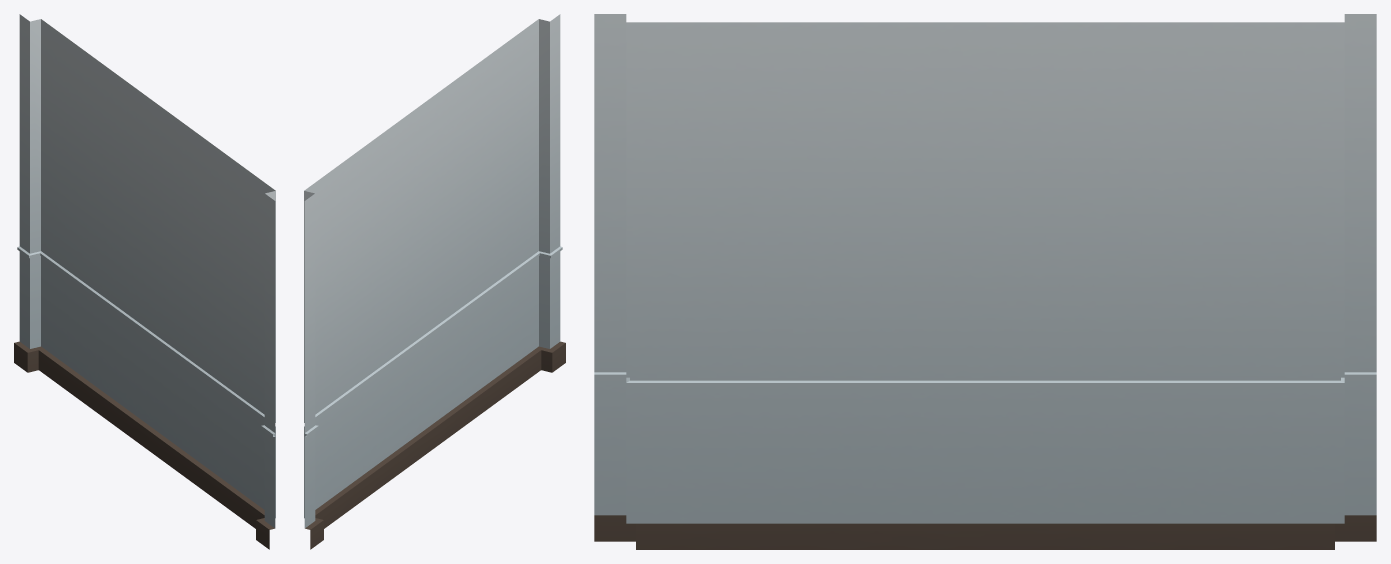
File: 4m_custom_trim.fbx
3 renders of one model, left to right at view 1: azimuth 30°, elevation 25°; view 2: azimuth 150°, elevation 25°; view 3: azimuth 270°, elevation 25°, orthographic. The views are drawn at different scales.
Parts seen in each view (by area): view 1: 4m_custom_trim; view 2: 4m_custom_trim; view 3: 4m_custom_trim.
Part boxes in pixels (bbox=[...]): 4m_custom_trim: bbox=[14, 14, 275, 549]; 4m_custom_trim: bbox=[304, 14, 565, 549]; 4m_custom_trim: bbox=[594, 14, 1376, 549].
Size of the model in its own units: 15 by 300 by 400.
